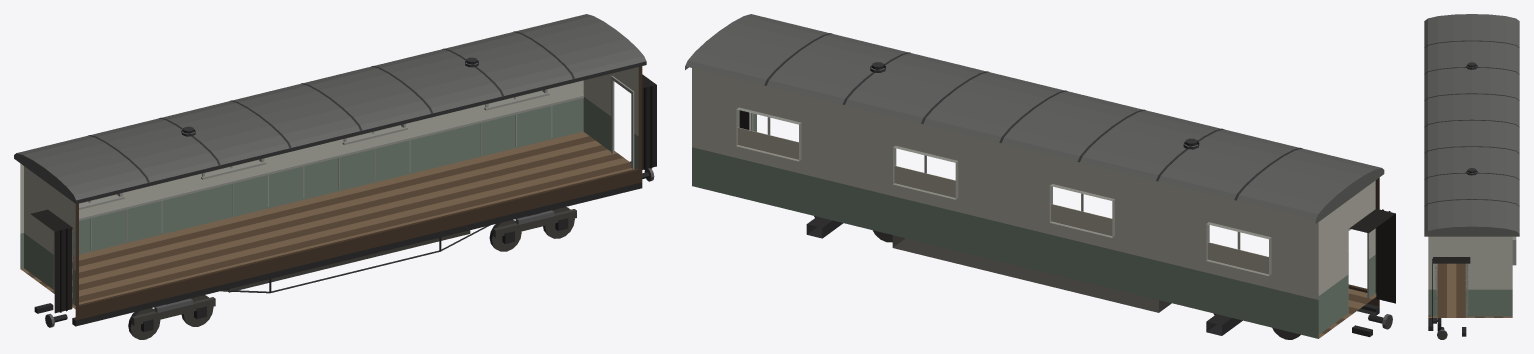
The model's file is shell_medic.glb.
The picture shows the model from 3 angles, left to right: view 1: azimuth 30°, elevation 25°; view 2: azimuth 150°, elevation 25°; view 3: azimuth 270°, elevation 25°; orthographic projection. The views are drawn at different scales.
Visible parts, largest first — view 1: low, top; view 2: low, top; view 3: top, low.
Boxes of the visible parts, bbox=[...] form: low: bbox=[20, 73, 656, 339]; top: bbox=[14, 14, 646, 227]; low: bbox=[692, 96, 1395, 339]; top: bbox=[685, 14, 1384, 248]; top: bbox=[1424, 14, 1519, 254]; low: bbox=[1428, 236, 1516, 339].
Bounding box in the file's own units: 17 × 4.81 × 3.04.
Materials: 1 (1 with a texture image).
